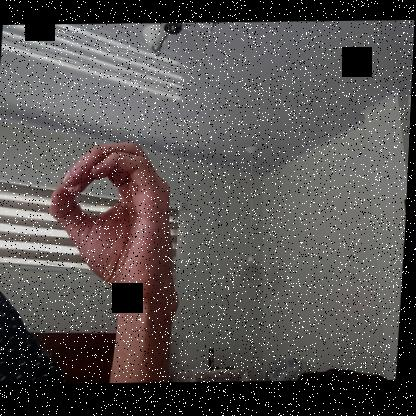O: (45, 133, 186, 302)
